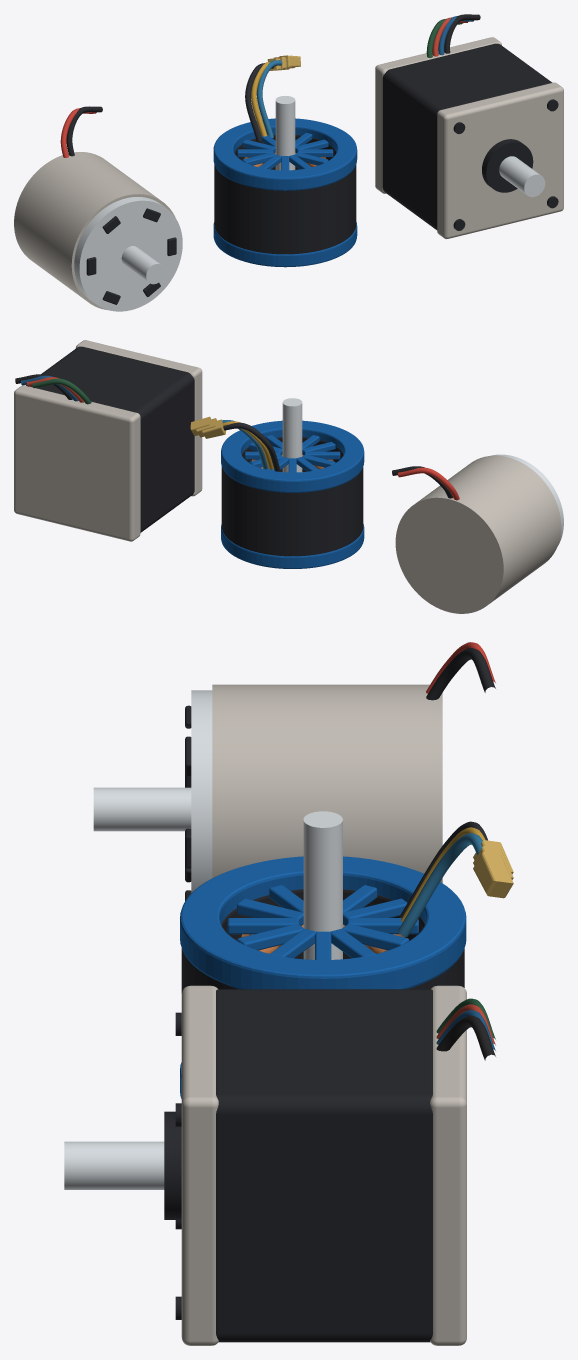
The model's file is anatomy-32.glb.
3 views of the same model, one above another, from view 1: azimuth 30°, elevation 25°; view 2: azimuth 150°, elevation 25°; view 3: azimuth 270°, elevation 25° (orthographic). The views are drawn at different scales.
Parts seen in each view (by area): view 1: stepper, bldc, dc, wires, step-shaft, bldc-shaft, dc-shaft; view 2: stepper, dc, bldc, wires, bldc-shaft, terminals; view 3: stepper, dc, bldc, step-shaft, wires, bldc-shaft, dc-shaft, terminals.
Part boxes in pixels (left/top/right/bottom): stepper: left=375, top=37, right=563, bottom=239; bldc: left=213, top=118, right=357, bottom=267; dc: left=14, top=152, right=182, bottom=311; wires: left=60, top=14, right=480, bottom=157; step-shaft: left=482, top=139, right=545, bottom=197; bldc-shaft: left=275, top=95, right=295, bottom=170; dc-shaft: left=121, top=246, right=164, bottom=284; stepper: left=14, top=340, right=202, bottom=541; dc: left=395, top=454, right=563, bottom=613; bldc: left=221, top=420, right=364, bottom=568; wires: left=15, top=374, right=459, bottom=500; bldc-shaft: left=282, top=398, right=302, bottom=472; terminals: left=190, top=416, right=225, bottom=438; stepper: left=175, top=985, right=466, bottom=1345; dc: left=185, top=684, right=442, bottom=900; bldc: left=180, top=856, right=466, bottom=1098; step-shaft: left=64, top=1111, right=181, bottom=1219; wires: left=398, top=642, right=495, bottom=1060; bldc-shaft: left=303, top=811, right=342, bottom=959; dc-shaft: left=93, top=787, right=191, bottom=831; terminals: left=473, top=840, right=513, bottom=898.
Size of the model in its own units: 2.67 by 0.79 by 1.07.
